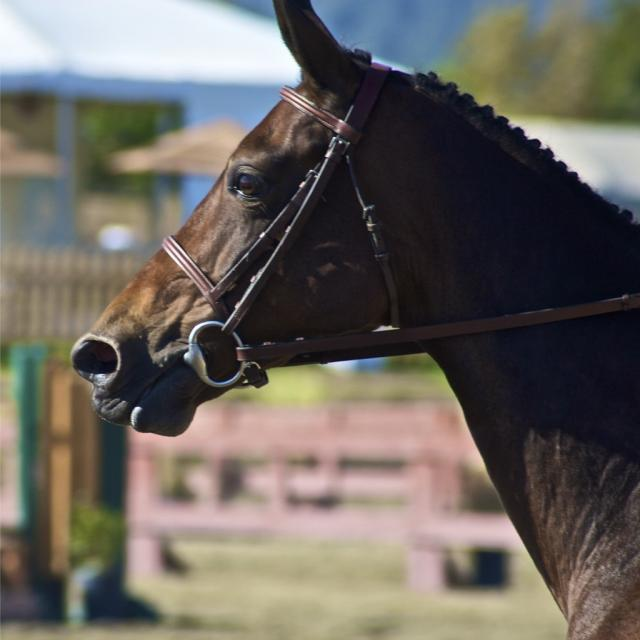Horse: (70, 0, 640, 640)
